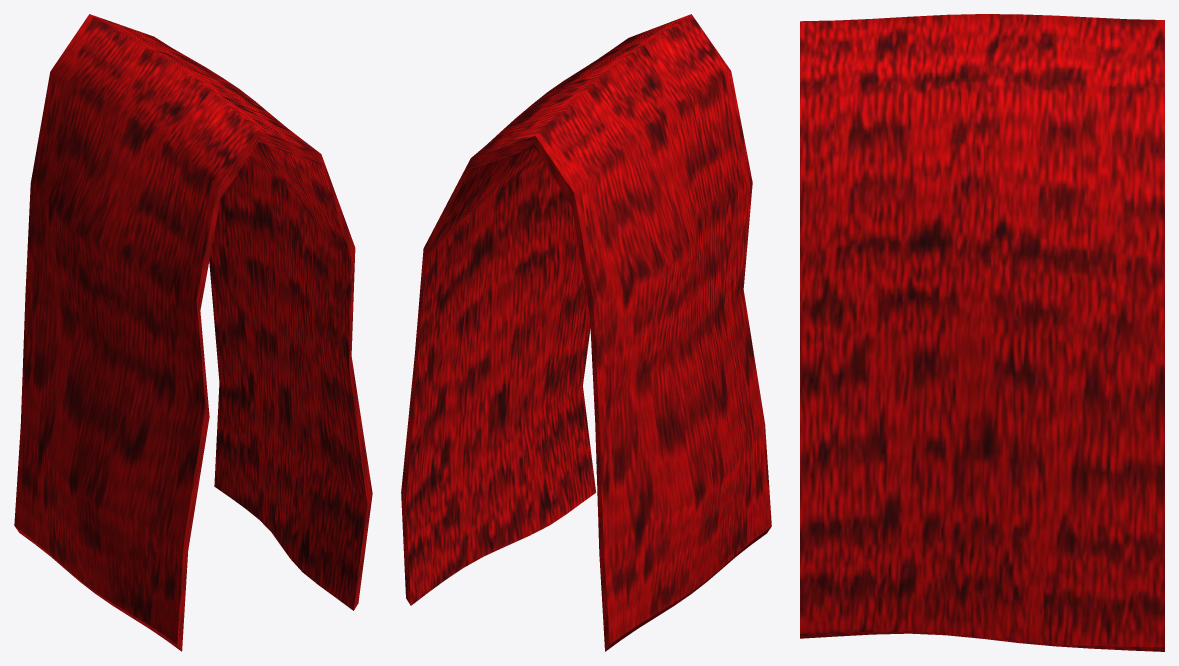
Rendered from viskestykke(1).fbx.
The picture shows the model from 3 angles, left to right: view 1: azimuth 30°, elevation 25°; view 2: azimuth 150°, elevation 25°; view 3: azimuth 270°, elevation 25°; orthographic projection. The views are drawn at different scales.
Visible parts, largest first — view 1: pCube2; view 2: pCube2; view 3: pCube2.
Part boxes in pixels (x1,y1,x2,y2): pCube2: (14, 14, 372, 651); pCube2: (401, 14, 771, 651); pCube2: (800, 14, 1164, 651).
Size of the model in its own units: 0.0945 by 0.2032 by 0.1174.
